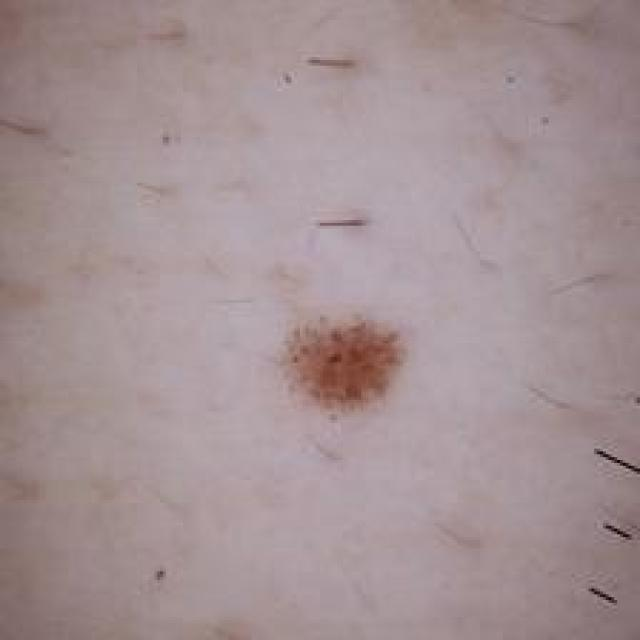Cancer: (263, 303, 418, 430)
